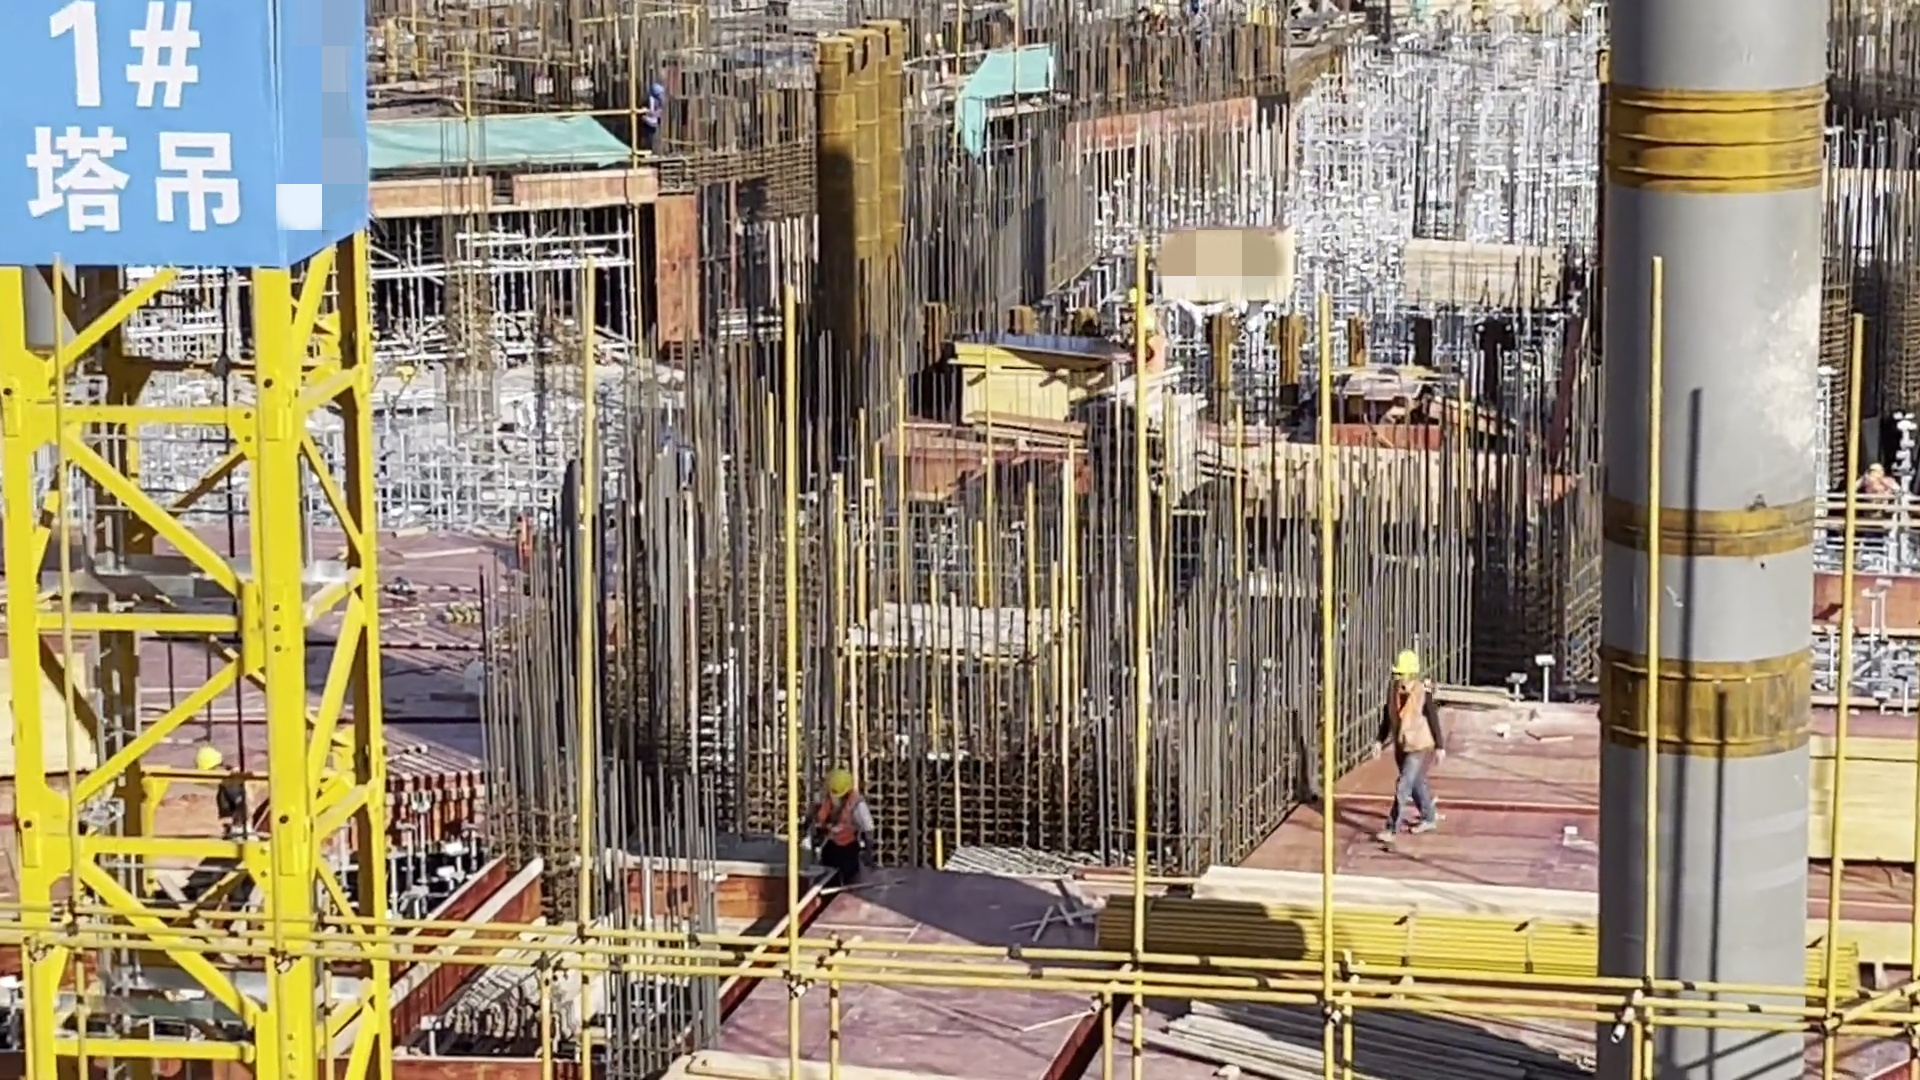helmet: (1391, 648, 1426, 687), (196, 743, 232, 779), (828, 768, 858, 800), (1867, 463, 1892, 480), (648, 80, 666, 97)
person: (1381, 651, 1443, 843), (195, 741, 286, 862), (811, 766, 876, 890), (1854, 456, 1900, 545), (1123, 290, 1165, 366), (640, 80, 669, 151)
vest: (1380, 683, 1454, 765), (815, 793, 869, 856)
